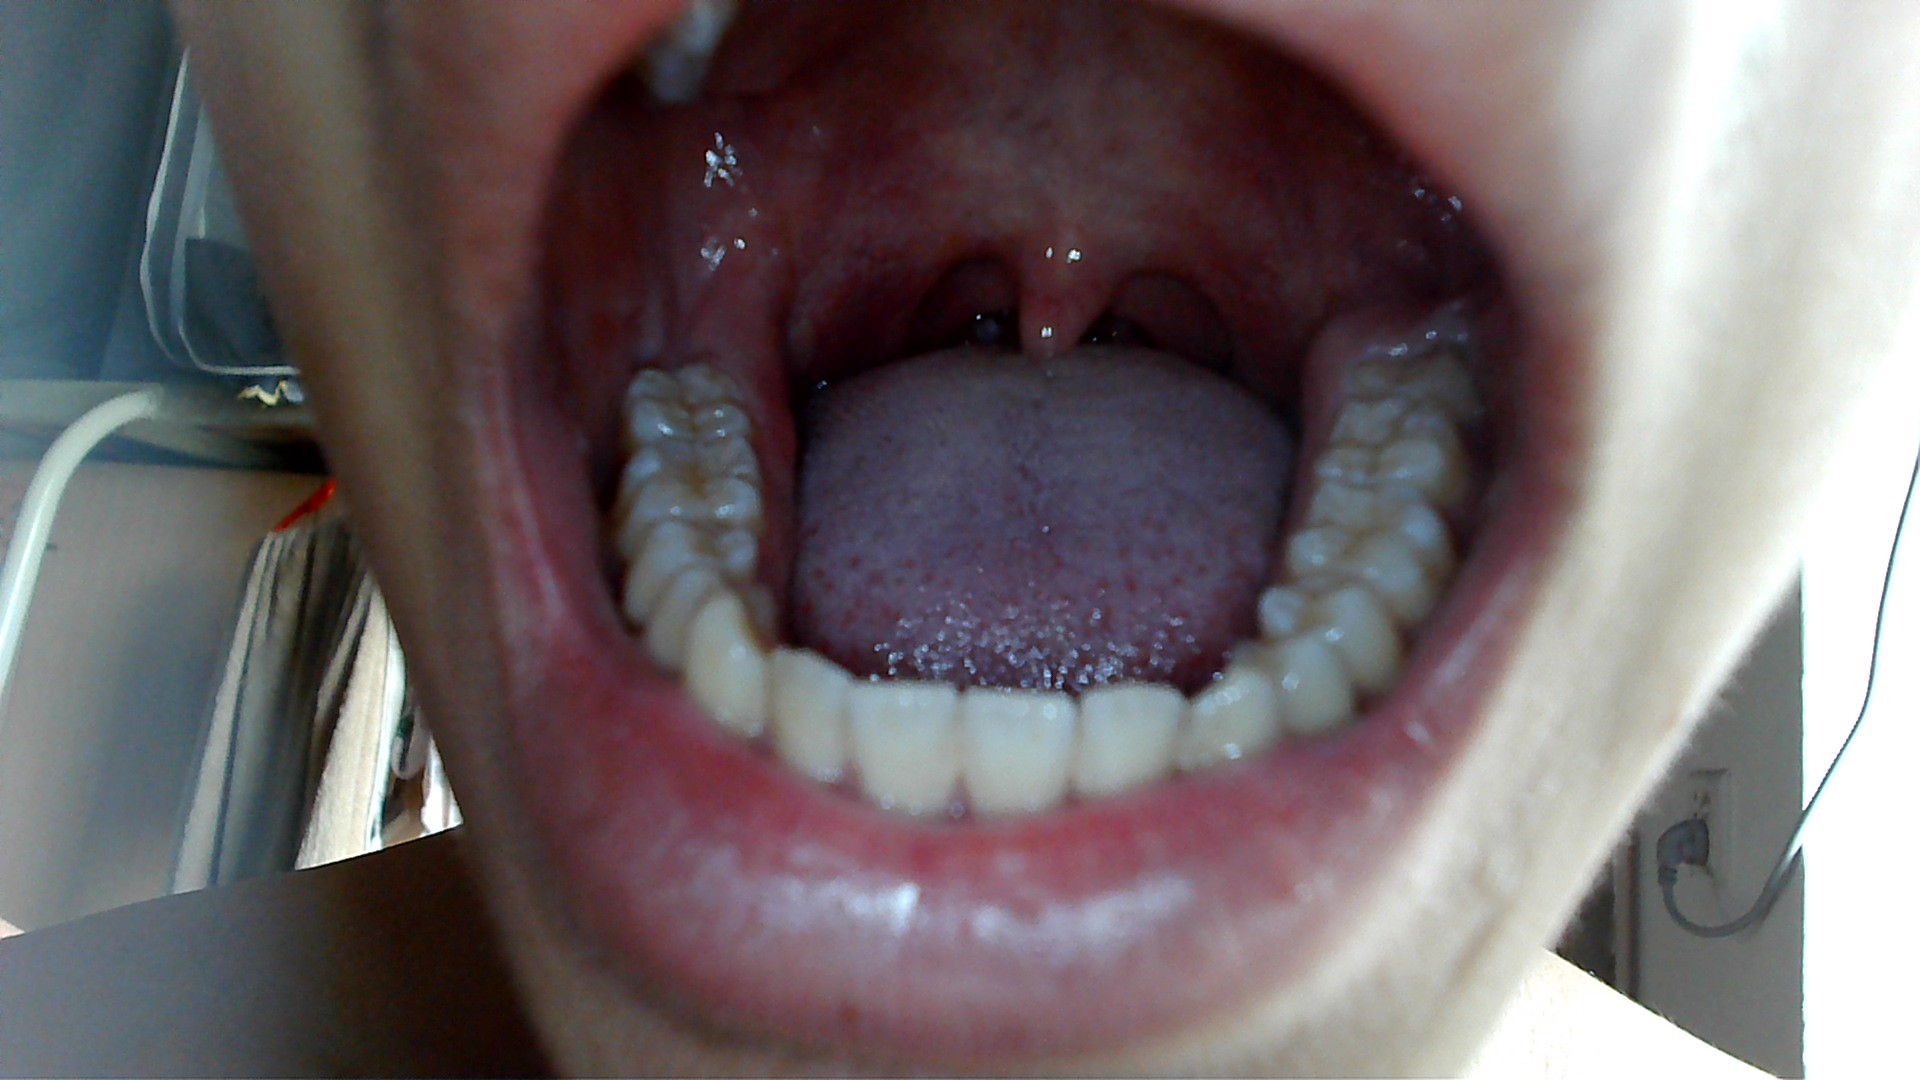throat: (1174, 232, 1262, 380), (878, 216, 963, 360)
